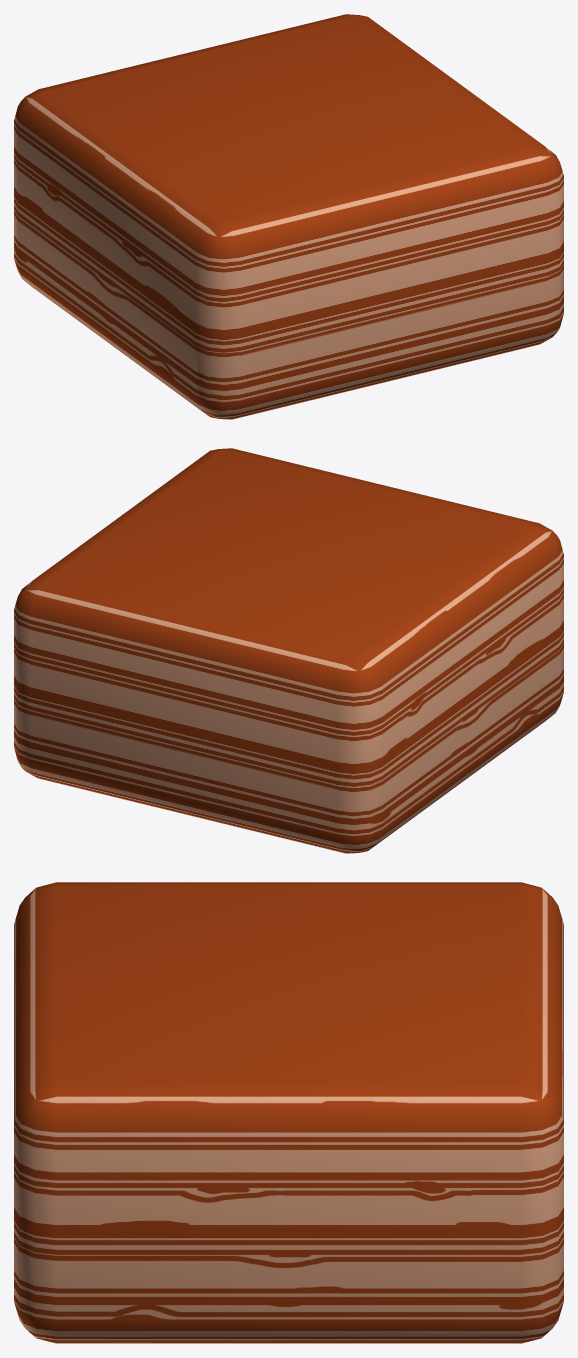
File: sanstoneTILE1.glb
3 renders of one model, top to bottom at view 1: azimuth 30°, elevation 25°; view 2: azimuth 150°, elevation 25°; view 3: azimuth 270°, elevation 25°, orthographic. The views are drawn at different scales.
Visible parts, largest first — view 1: Cube; view 2: Cube; view 3: Cube.
Part boxes in pixels (x1,y1,x2,y2): Cube: [14, 14, 563, 419]; Cube: [14, 448, 563, 853]; Cube: [14, 882, 563, 1343].
Size of the model in its own units: 2 by 1.03 by 2.
Materials: 1 (1 with a texture image).
